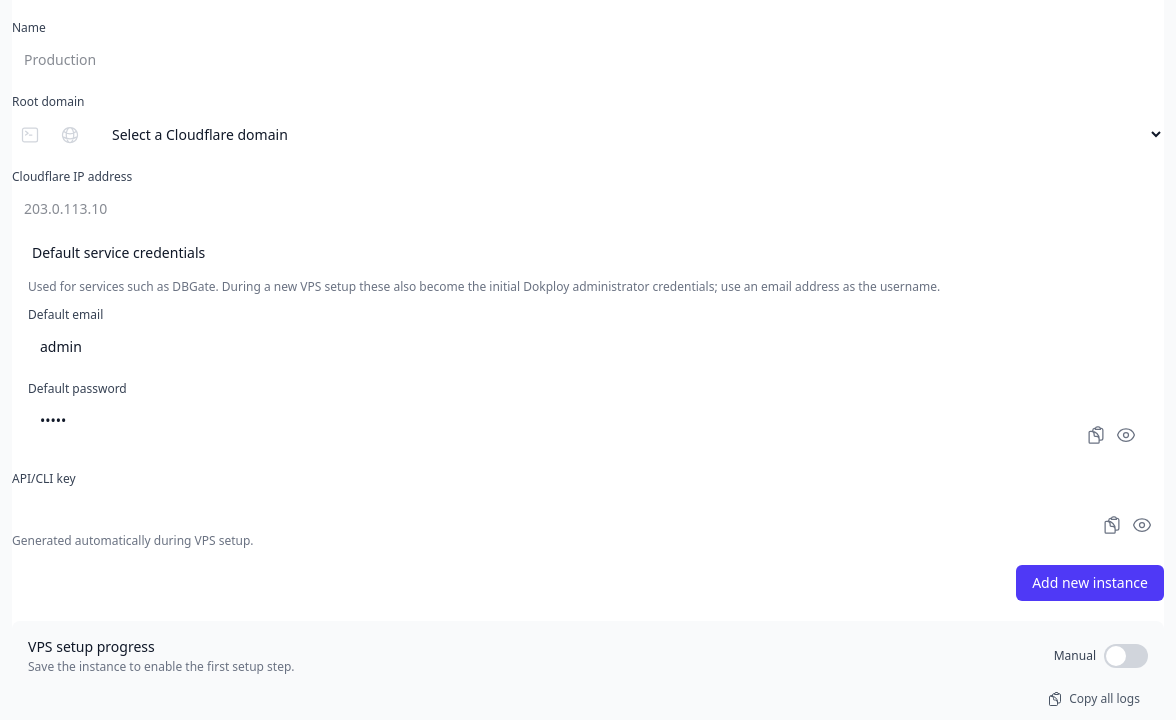
DokployInstanceForm › selects a Cloudflare domain and uses its apex IP
Select "example.com — 203.0.113.10" in the dropdown labelled "Root domain" at {"x": 630, "y": 134}, box [96,116,1164,153]
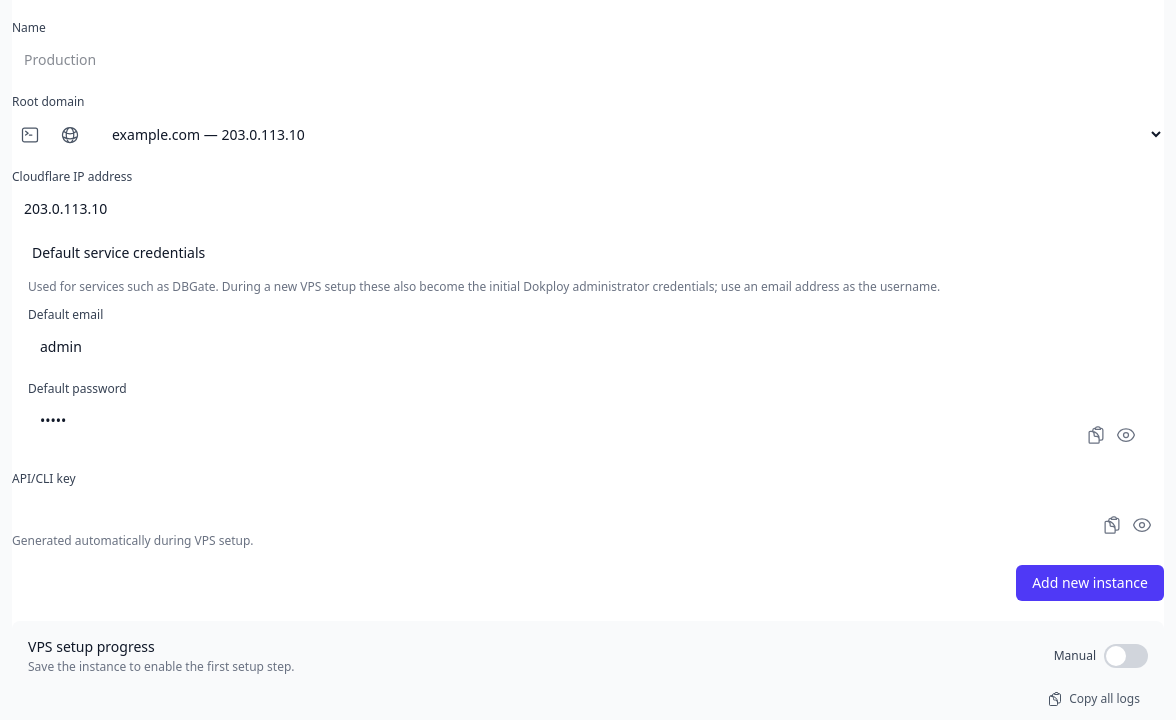
Result: the field labelled "Cloudflare IP address" holds "203.0.113.10" at [12,191,1164,227]
